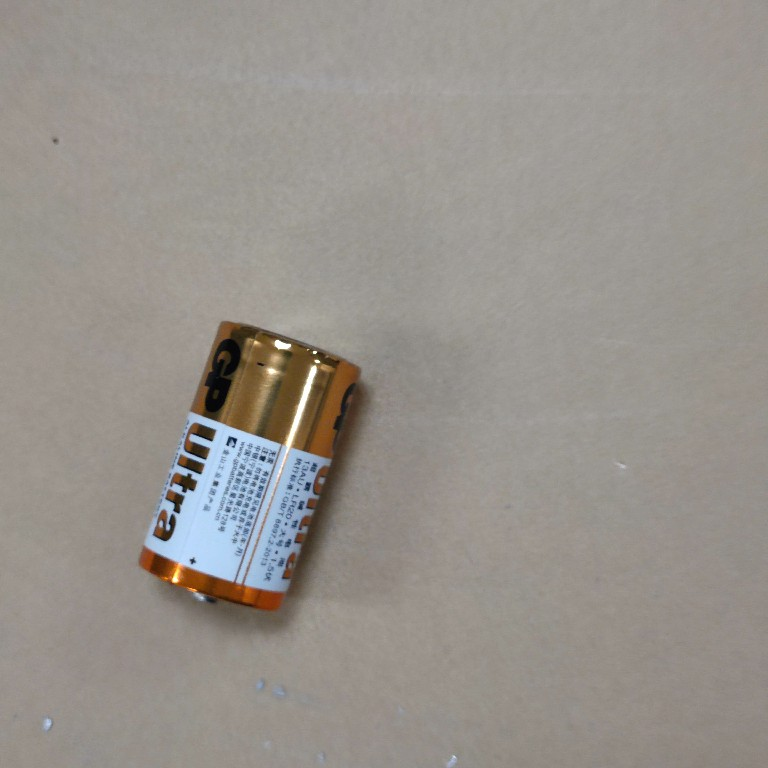charge: (134, 318, 368, 615)
